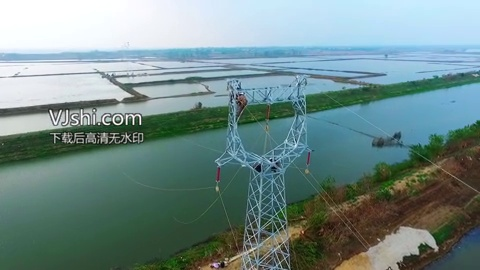tower_body: (213, 70, 318, 269)
tower_foot: (241, 233, 293, 270)
tower_head: (215, 73, 314, 172)
